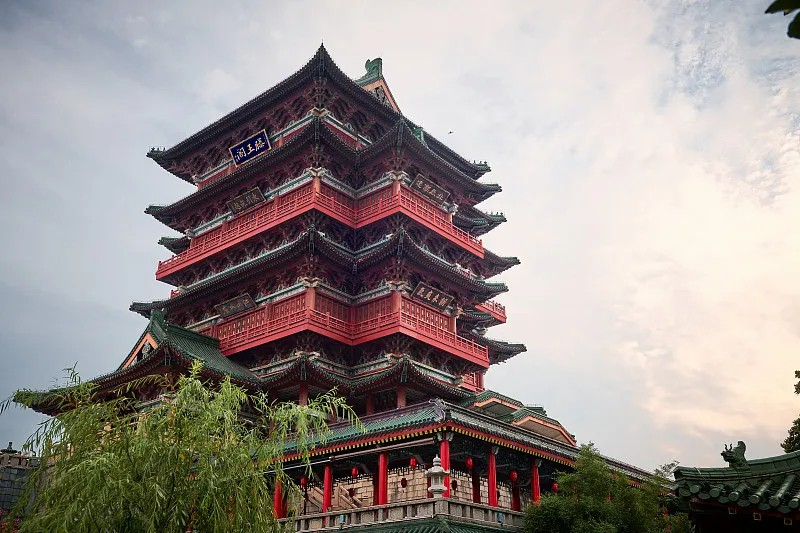Teng: (16, 40, 677, 516)
